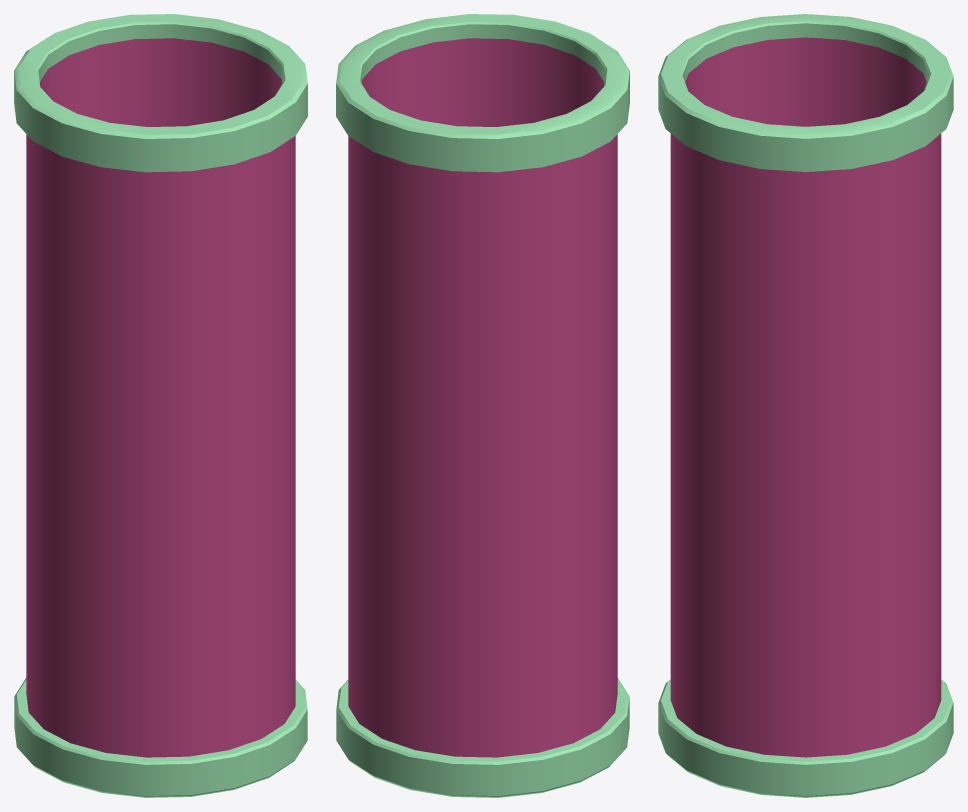
3 renders of one model, left to right at view 1: azimuth 30°, elevation 25°; view 2: azimuth 150°, elevation 25°; view 3: azimuth 270°, elevation 25°, orthographic.
Visible parts, largest first — view 1: pCylinder10; view 2: pCylinder10; view 3: pCylinder10.
Boxes of the visible parts, box(x1,y1,x2,y2) form: pCylinder10: box(14, 14, 307, 797); pCylinder10: box(336, 14, 629, 797); pCylinder10: box(658, 14, 953, 797).
Size of the model in its own units: 5.07 by 12.55 by 5.07.
